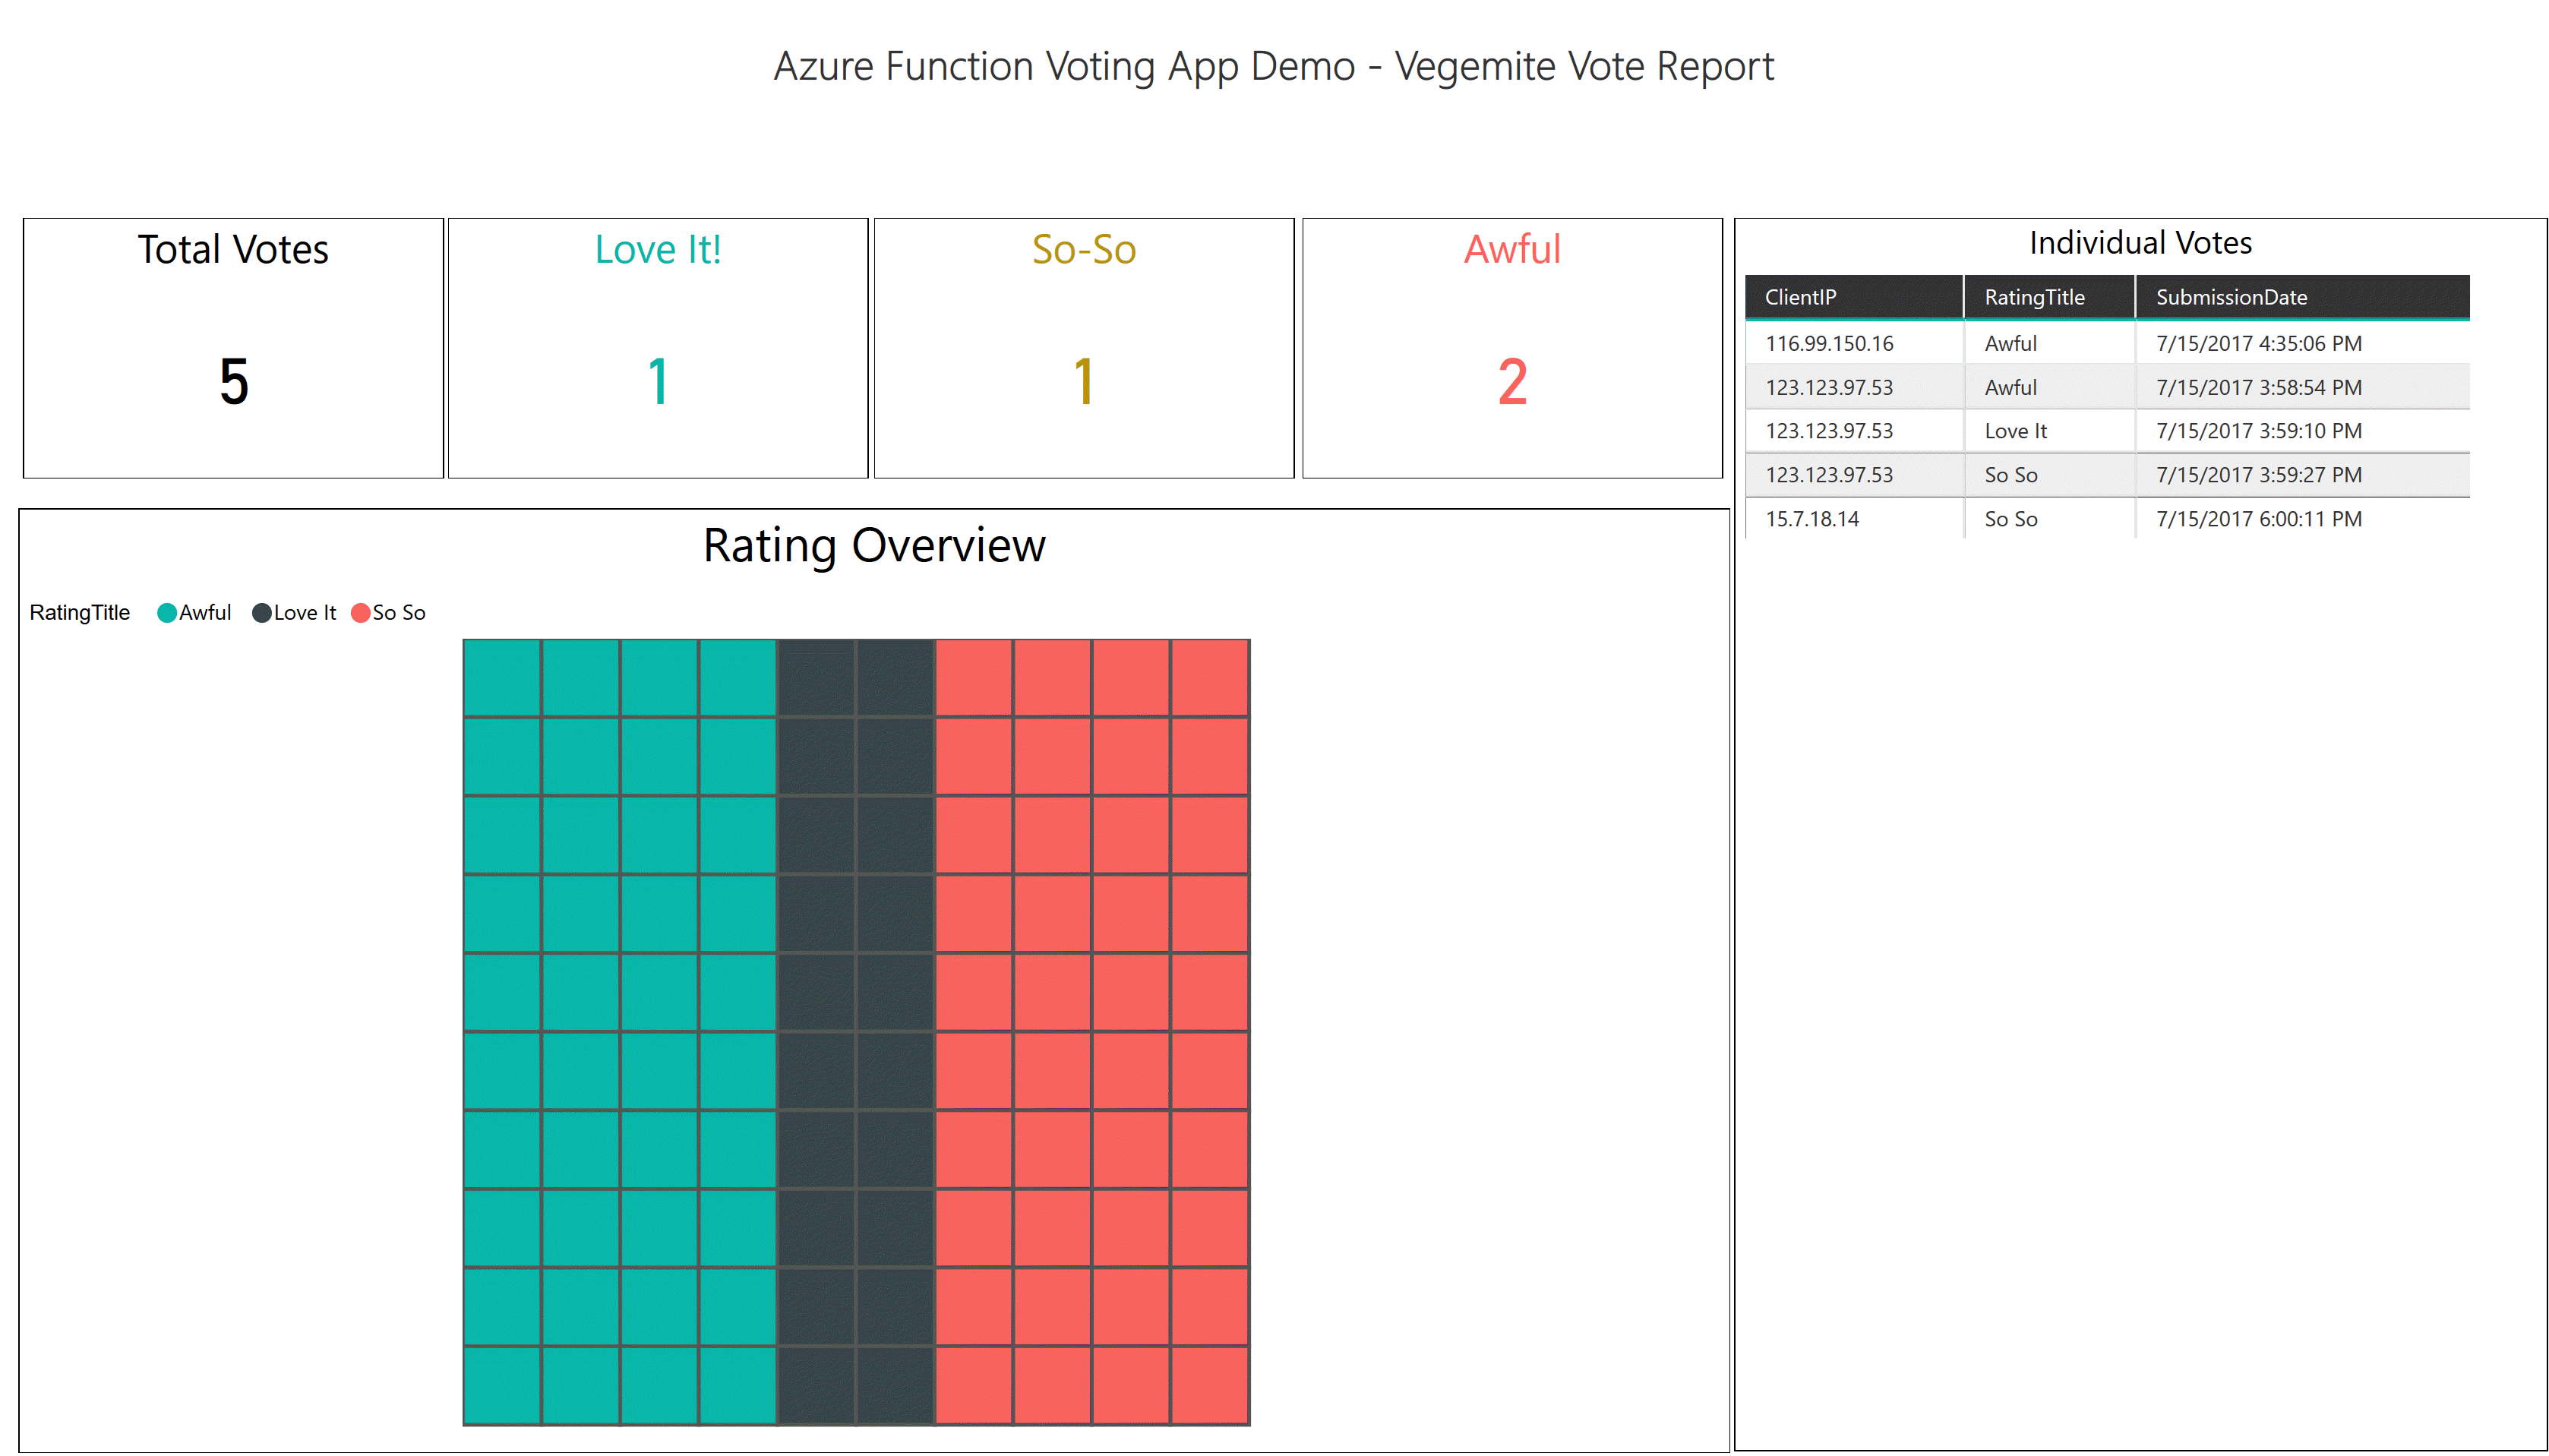

This screenshot's page, from the dashboard's own definition file:
{"tool":"powerbi","page":{"name":"Page 1","canvas":[1280,720],"ordinal":0},"visuals":[{"type":"textbox","box":[1.2,1.8,1274.6,45.3],"z":1},{"type":"card","fields":{"Values":["CountNonNull(Query1.VoteId)"]},"box":[11.5,97.8,211.8,131.6],"z":2},{"type":"card","fields":{"Values":["CountNonNull(Query1.VoteId)"]},"box":[224.5,97.8,211.8,131.6],"z":2},{"type":"card","fields":{"Values":["CountNonNull(Query1.VoteId)"]},"box":[438.2,97.8,211.8,131.6],"z":2},{"type":"card","fields":{"Values":["CountNonNull(Query1.VoteId)"]},"box":[652.4,97.8,211.8,131.6],"z":2},{"type":"BrickChart1454871868044","fields":{"Category":["Query1.RatingTitle"],"Value":["CountNonNull(Query1.RatingId)"]},"box":[9.1,243.2,858.8,474.4],"z":6},{"type":"table","fields":{"Values":["Query1.ClientIP","Query1.RatingTitle","Query1.SubmissionDate"]},"box":[869.1,97.8,408.6,618.6],"z":7}]}

Visuals, with their boxes in screenshot pixels (x1, y1, x2, y2), scaled from the page's 1280x720 canvas onto the 2549x1456 screenshot:
textbox: [x1=2, y1=4, x2=2541, y2=95]
card - CountNonNull(Query1.VoteId): [x1=23, y1=197, x2=444, y2=464]
card - CountNonNull(Query1.VoteId): [x1=447, y1=197, x2=869, y2=464]
card - CountNonNull(Query1.VoteId): [x1=873, y1=197, x2=1294, y2=464]
card - CountNonNull(Query1.VoteId): [x1=1300, y1=197, x2=1721, y2=464]
BrickChart1454871868044 - Query1.RatingTitle x CountNonNull(Query1.RatingId): [x1=18, y1=492, x2=1729, y2=1451]
table - Query1.ClientIP x Query1.RatingTitle: [x1=1731, y1=197, x2=2544, y2=1448]
